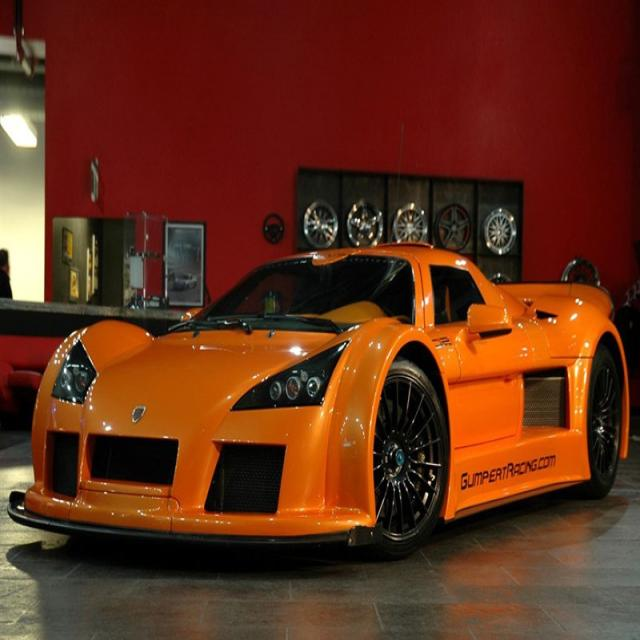front_bumper: (6, 395, 373, 542)
front_glass: (194, 254, 417, 332)
front_left_side_door: (422, 255, 532, 459)
front_left_side_light: (227, 340, 351, 413)
front_left_side_mirror: (462, 300, 512, 343)
front_right_side_light: (50, 333, 100, 406)
wheel: (354, 362, 448, 548), (579, 343, 623, 491)
